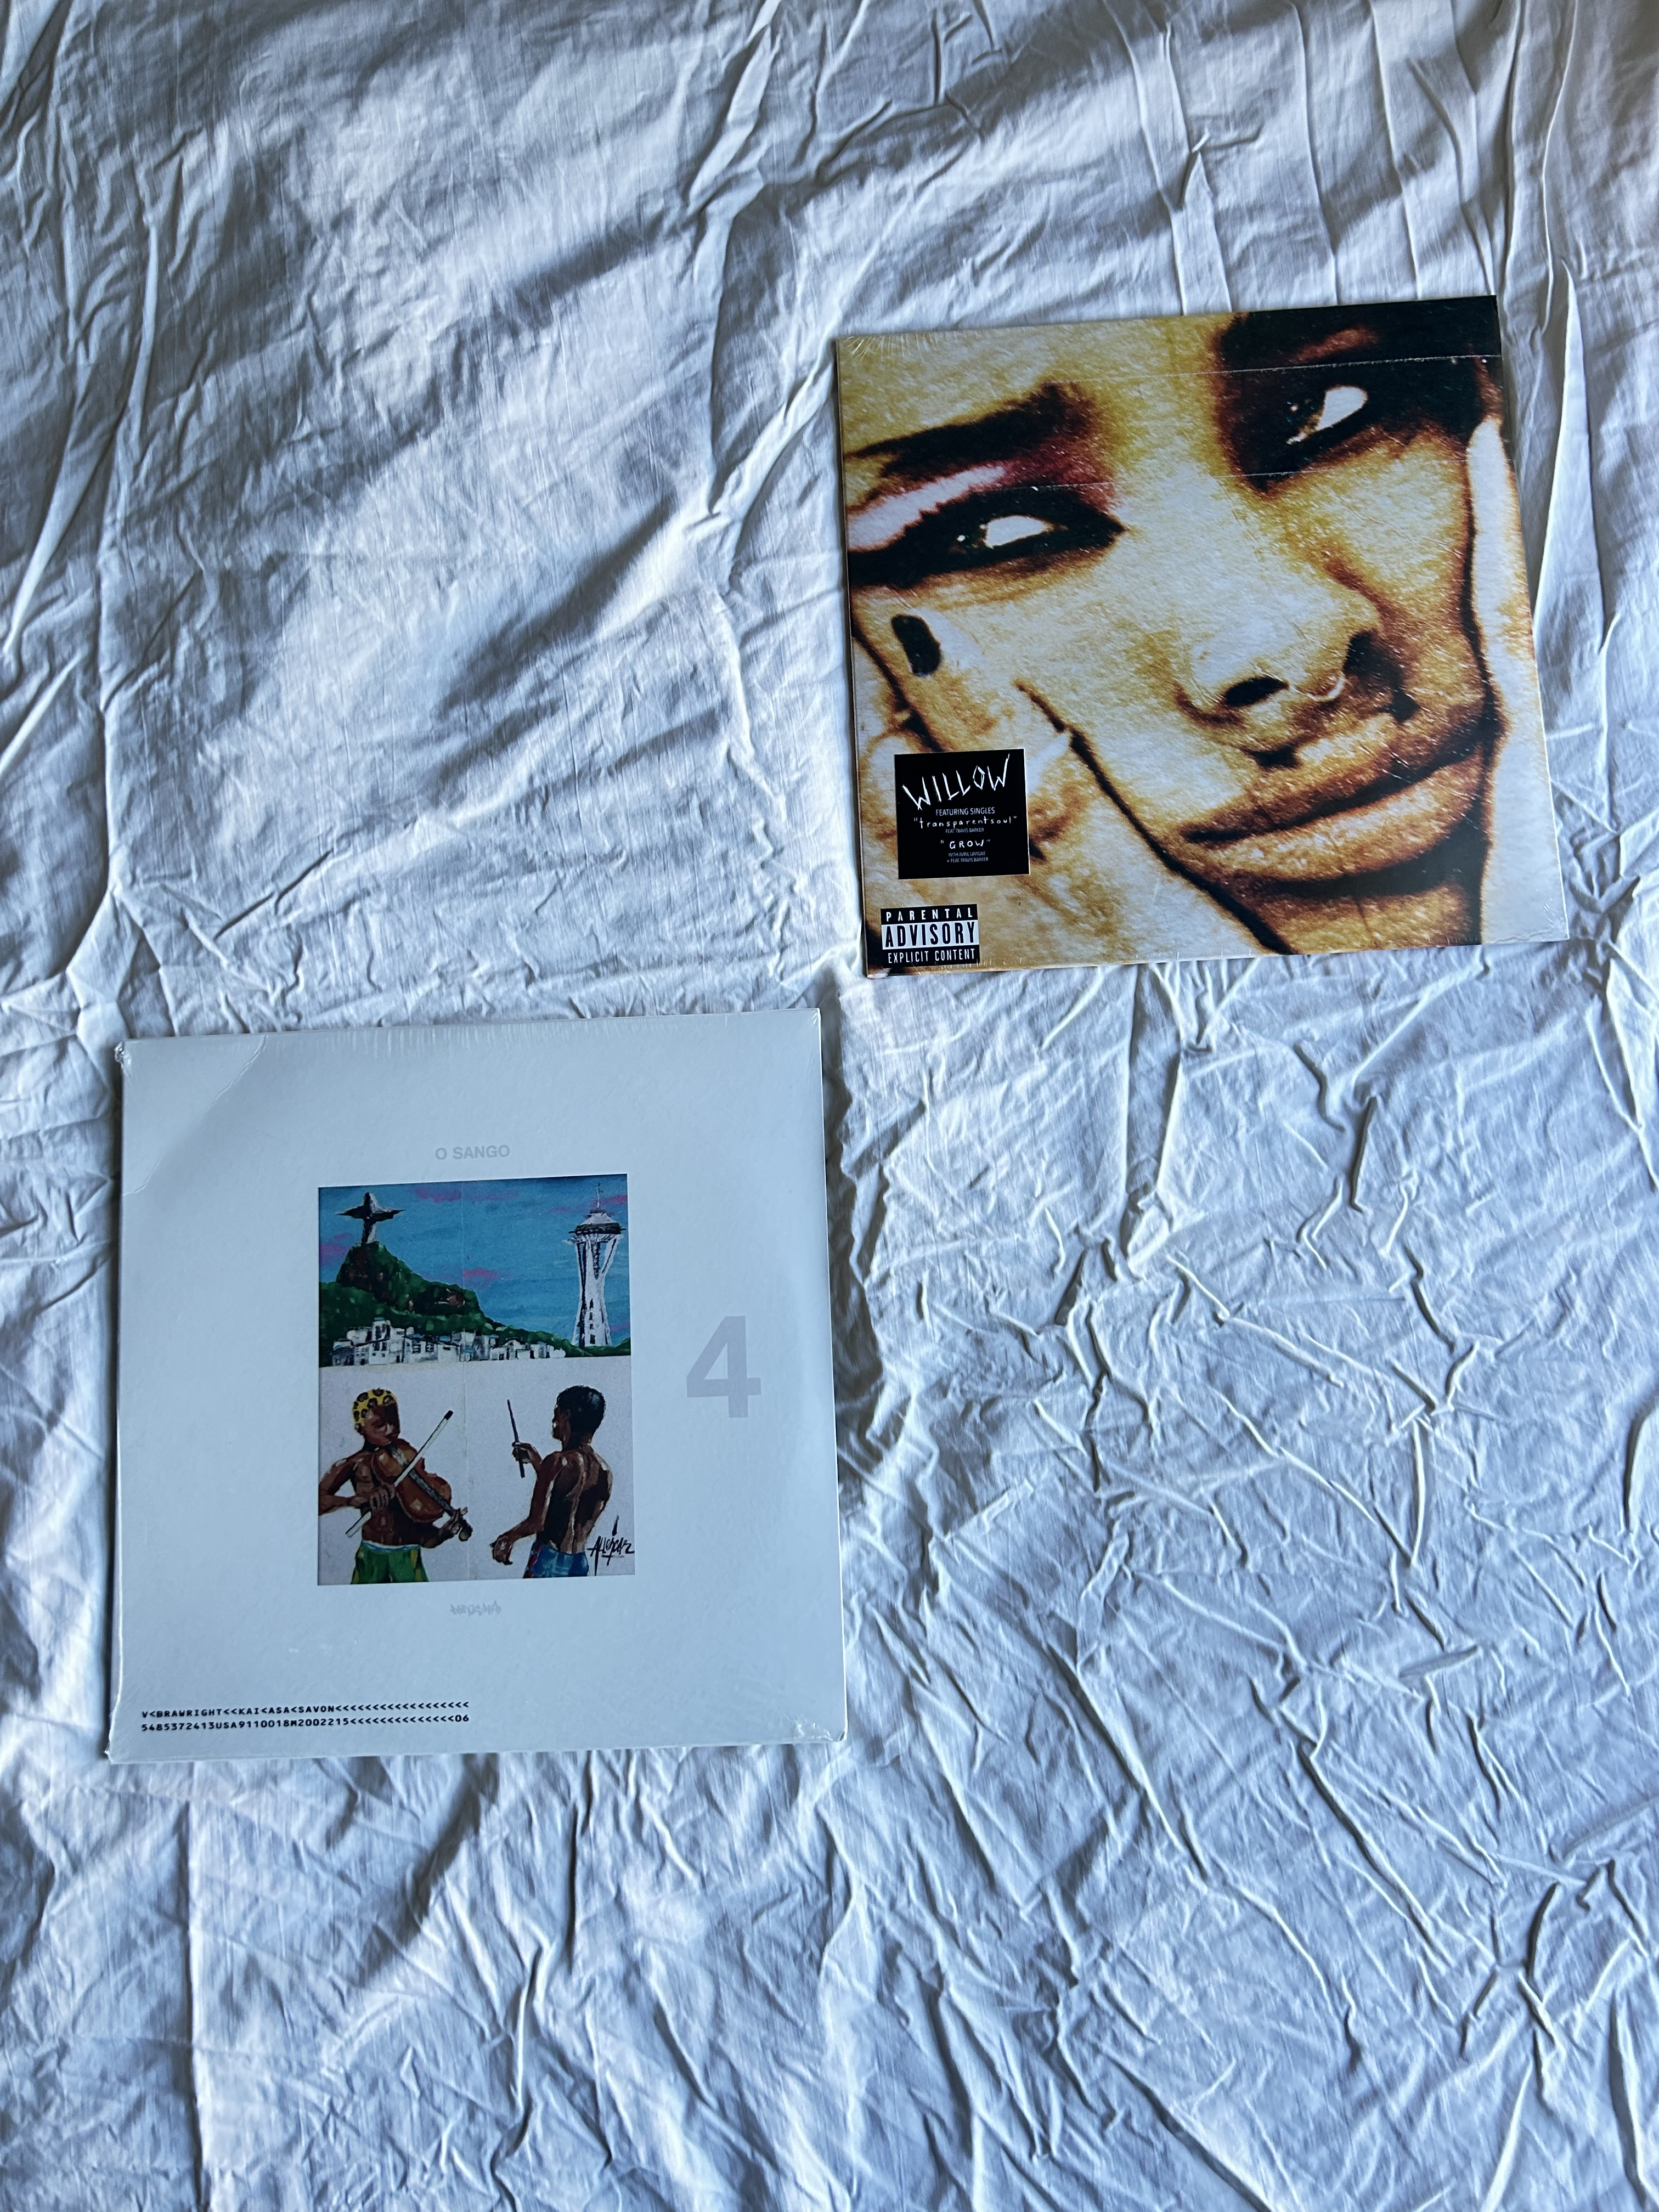sango_da rocinha 4: (105, 1015, 850, 1747)
willow_lately i feel everything: (810, 329, 1541, 989)
